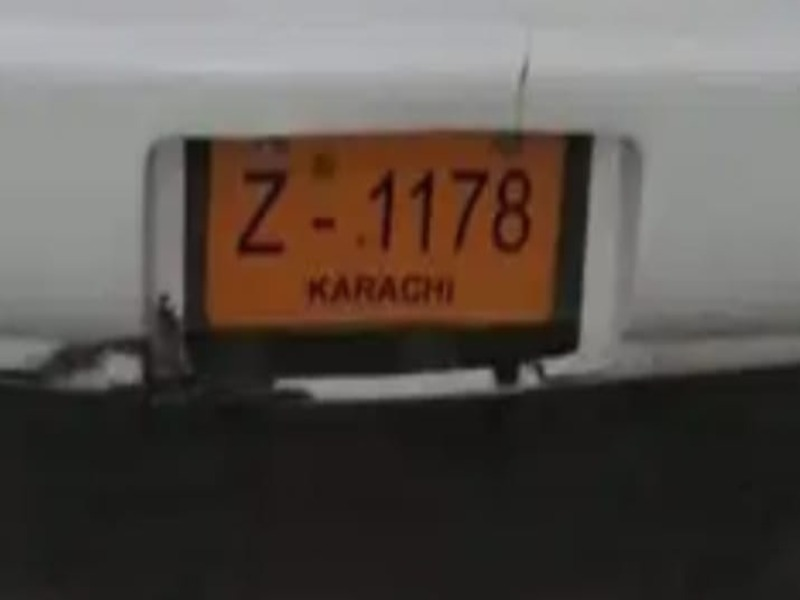License Plate: (183, 129, 583, 358)
